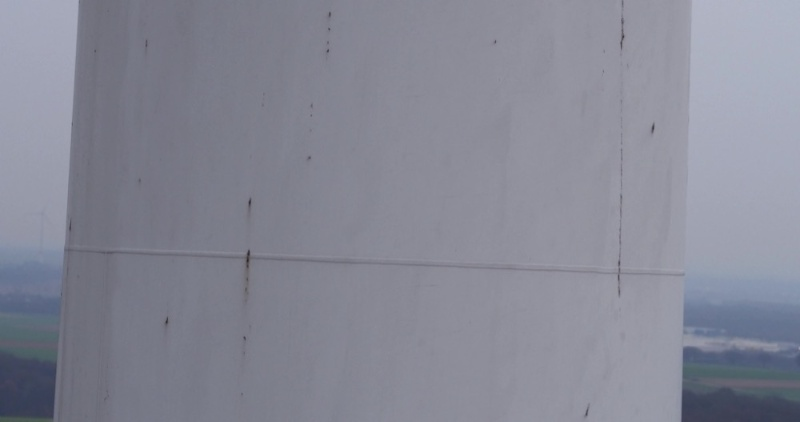weldseam: (58, 237, 688, 280)
